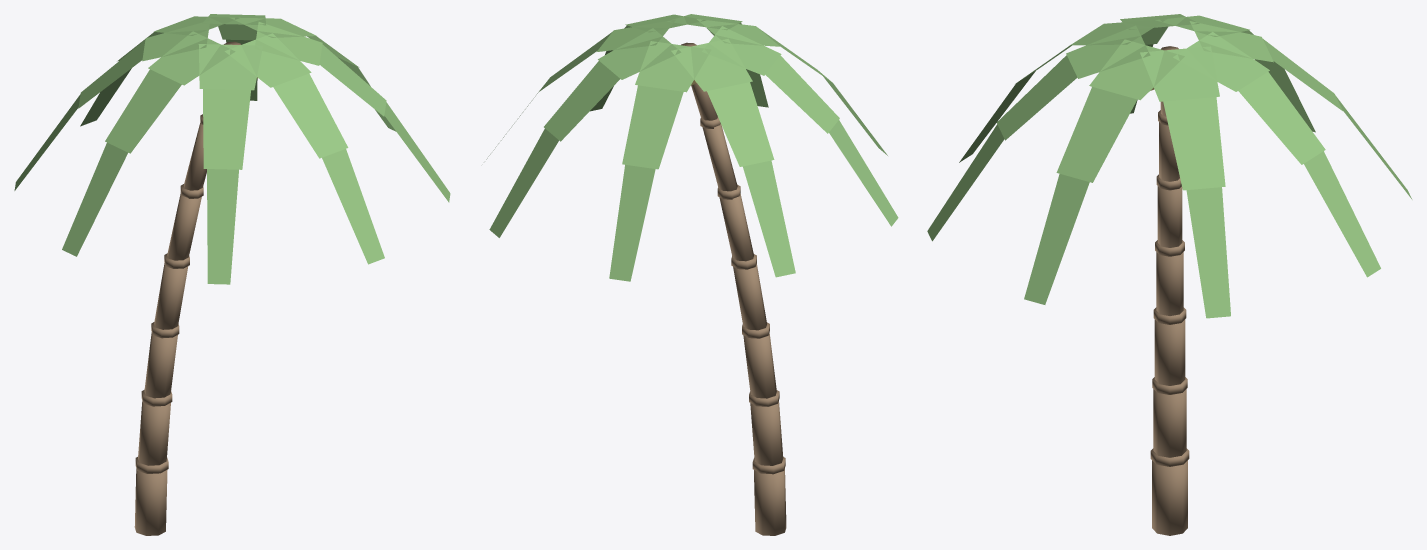
The model's file is palm.glb.
3 views of the same model, side by side, from view 1: azimuth 30°, elevation 25°; view 2: azimuth 150°, elevation 25°; view 3: azimuth 270°, elevation 25° (orthographic). The views are drawn at different scales.
Visible parts, largest first — view 1: CoconutPalm; view 2: CoconutPalm; view 3: CoconutPalm.
Boxes of the visible parts, x1,y1,x2,y2 form: CoconutPalm: (14,14,450,535); CoconutPalm: (486,14,898,535); CoconutPalm: (927,14,1412,535).
Bounding box in the file's own units: 2.67 × 3.25 × 2.67.
